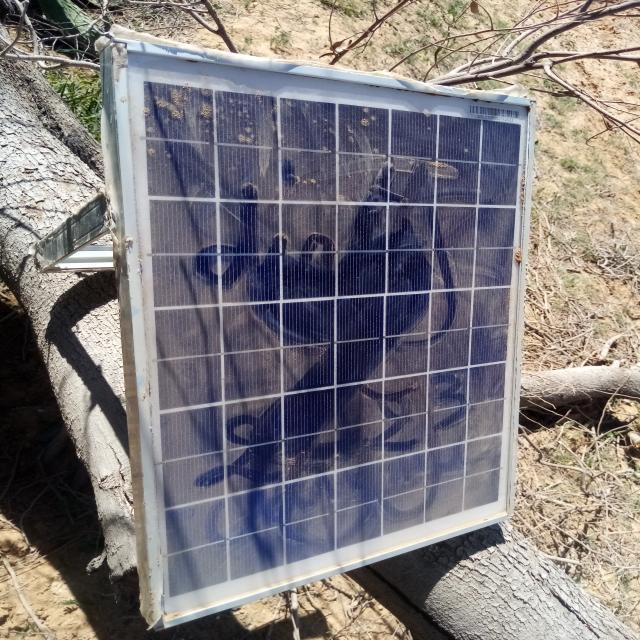faulty: (118, 44, 534, 628)
